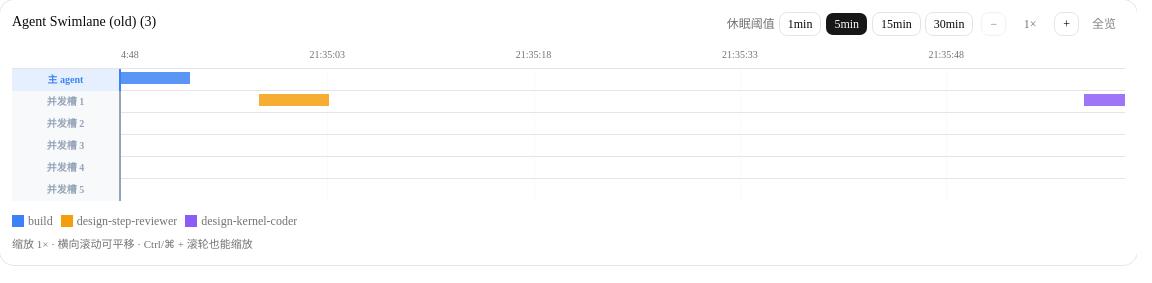
Scenario: AgentCallGraph 泳道分行（slots 布局） › 原生泛化名（全体 design）+ 桥类型：泳道按真类型分组、tooltip 显示类型（resolveSubagentIdentity 唯一入口）
Hover over the 2nd element with class "cursor-pointer" at {"x": 294, "y": 100}, box [258, 94, 329, 106]
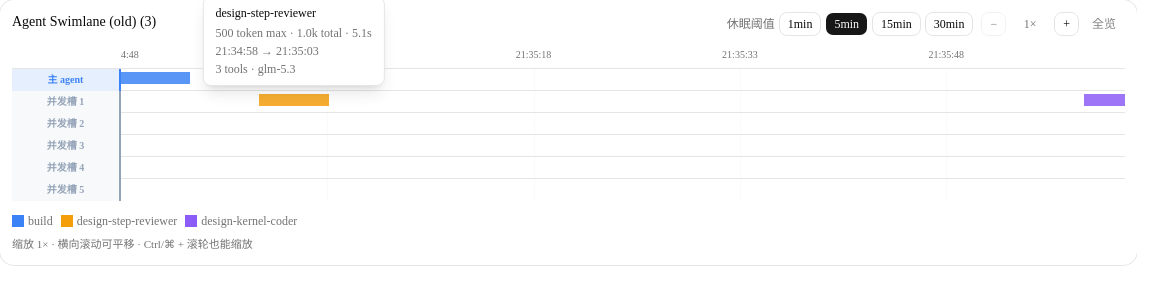
Now the element that starts with "design-step-reviewer" is shown, box [215, 6, 316, 20]
